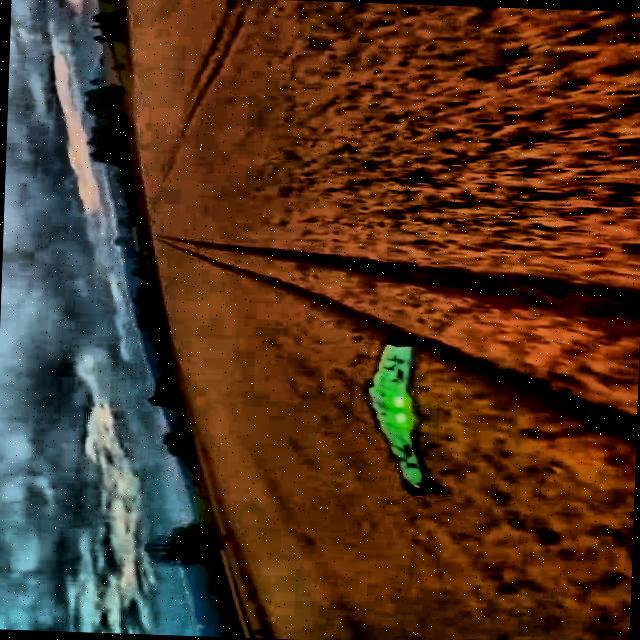iha: (383, 342, 429, 504)
